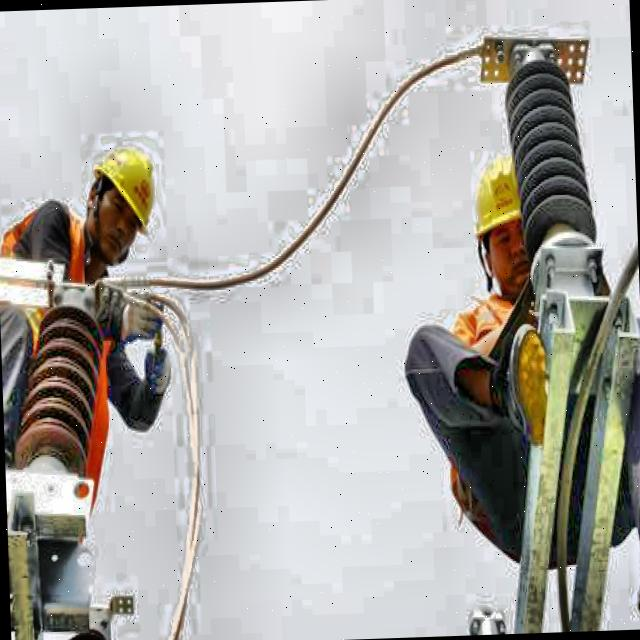helmet: (470, 156, 542, 310), (85, 150, 160, 258)
